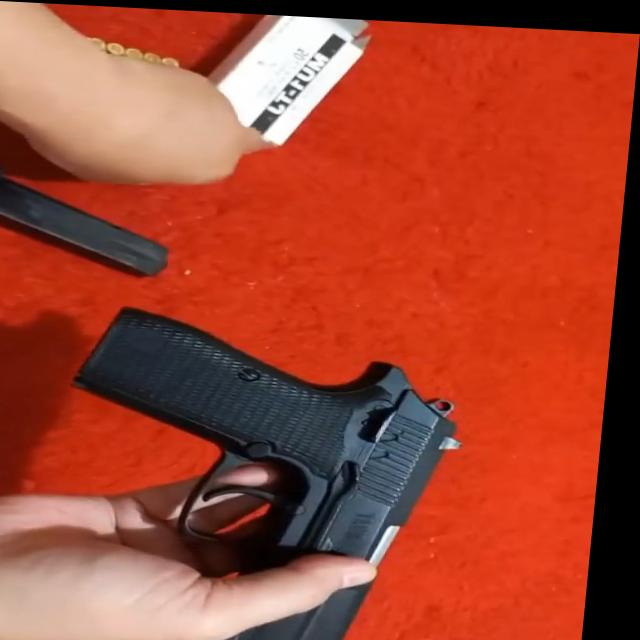handgun: (36, 290, 479, 640)
